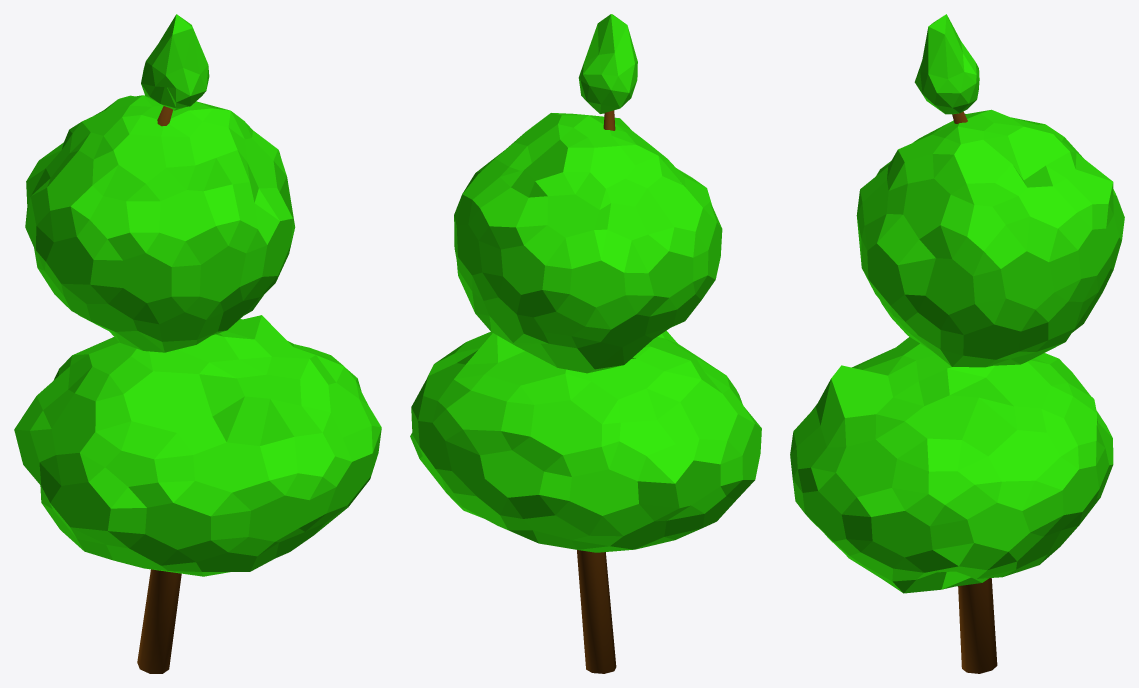
File: tree.glb
3 views of the same model, side by side, from view 1: azimuth 30°, elevation 25°; view 2: azimuth 150°, elevation 25°; view 3: azimuth 270°, elevation 25° (orthographic). The views are drawn at different scales.
Parts seen in each view (by area): view 1: Icosphere, Plane; view 2: Icosphere, Plane; view 3: Icosphere, Plane.
Part boxes in pixels (bbox=[...]): Icosphere: bbox=[14, 14, 381, 576]; Plane: bbox=[137, 106, 181, 673]; Icosphere: bbox=[410, 14, 761, 552]; Plane: bbox=[577, 110, 616, 673]; Icosphere: bbox=[790, 14, 1124, 593]; Plane: bbox=[952, 111, 997, 673].
Size of the model in its own units: 49.82 by 101 by 46.51.
